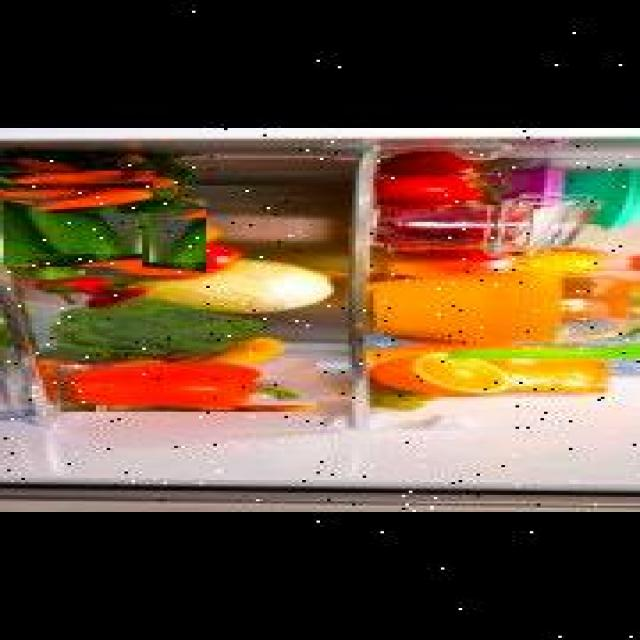bell_pepper: (55, 358, 311, 412)
broccoli: (21, 298, 278, 364)
carrot: (28, 188, 178, 213), (0, 170, 149, 187)
cucumber: (81, 200, 202, 276), (0, 200, 139, 266)
tomato: (366, 173, 498, 205), (377, 151, 483, 175)
